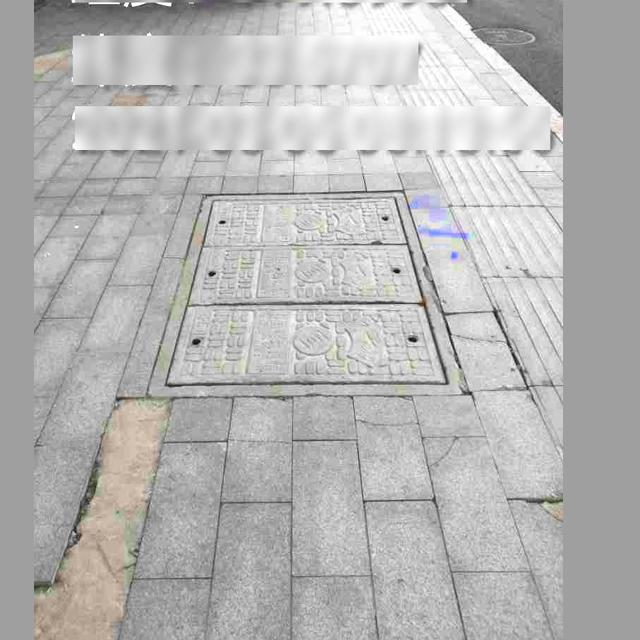good: (145, 190, 467, 398)
